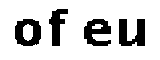e: (81, 16, 113, 51)
f: (47, 6, 72, 50)
o: (13, 17, 42, 47)
u: (114, 14, 148, 51)
